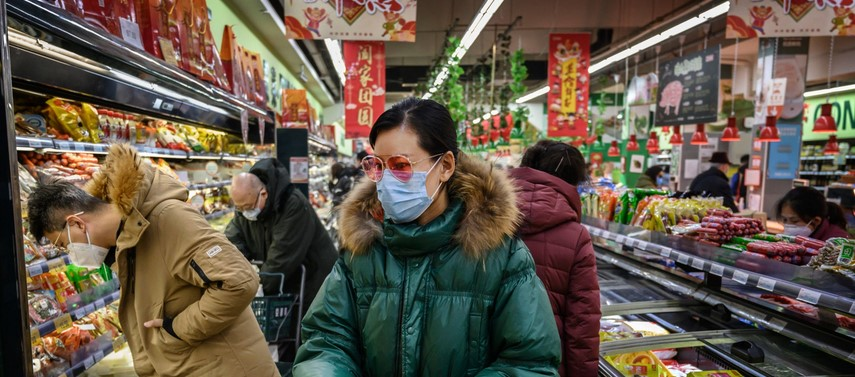face_with_mask: (365, 105, 454, 224), (32, 186, 111, 275), (230, 177, 267, 219)
